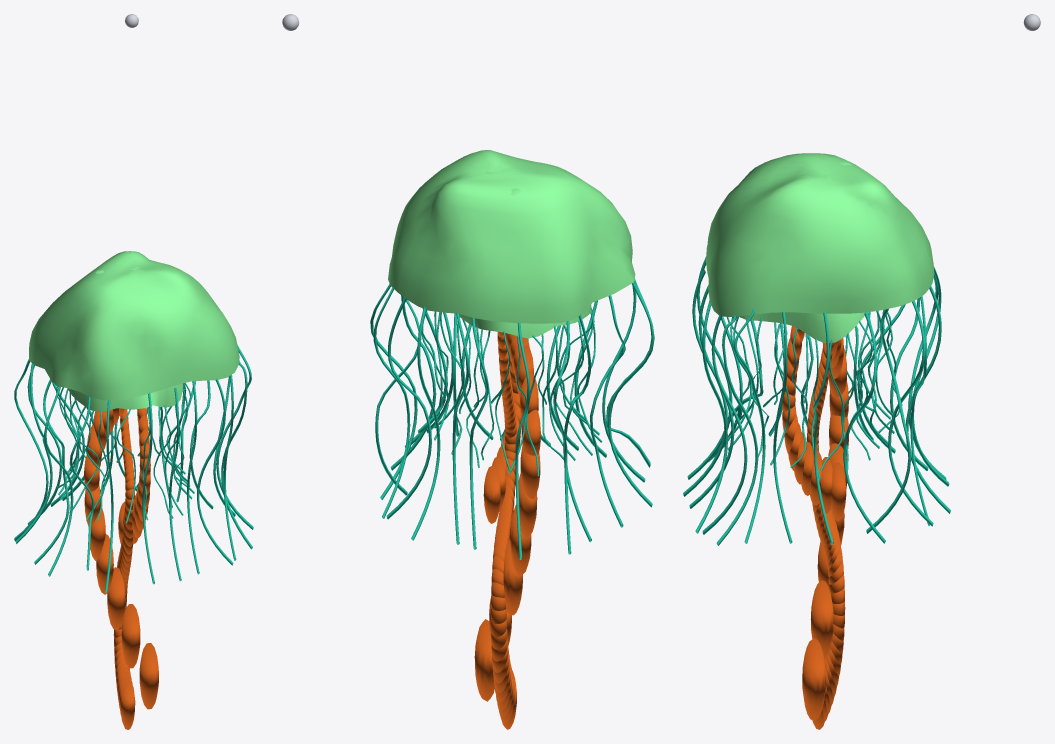
Rendered from jellyfish series improved.obj.
3 renders of one model, left to right at view 1: azimuth 30°, elevation 25°; view 2: azimuth 150°, elevation 25°; view 3: azimuth 270°, elevation 25°, orthographic. The views are drawn at different scales.
Visible parts, largest first — view 1: outer_and_tenticles_XTRA inner, outer_and_tenticles_XTRA tenticles_inner Form47, Group15 Group12 Form72, inner_and_tenticles tenticles_inner Form47, Group15 Group10 Form72, Group15 Group14 Form72, inner_and_tenticles inner; view 2: outer_and_tenticles_XTRA inner, outer_and_tenticles_XTRA tenticles_inner Form47, Group15 Group12 Form72, inner_and_tenticles tenticles_inner Form47, Group15 Group10 Form72, Group15 Group14 Form72, inner_and_tenticles inner; view 3: outer_and_tenticles_XTRA inner, outer_and_tenticles_XTRA tenticles_inner Form47, Group15 Group12 Form72, inner_and_tenticles tenticles_inner Form47, Group15 Group10 Form72, Group15 Group14 Form72, inner_and_tenticles inner.
Part boxes in pixels (x1,y1,x2,y2): outer_and_tenticles_XTRA inner: (29, 251, 239, 400); outer_and_tenticles_XTRA tenticles_inner Form47: (14, 345, 253, 592); Group15 Group12 Form72: (84, 408, 158, 709); inner_and_tenticles tenticles_inner Form47: (56, 383, 194, 522); Group15 Group10 Form72: (113, 409, 135, 729); Group15 Group14 Form72: (118, 408, 150, 544); inner_and_tenticles inner: (67, 266, 183, 411); outer_and_tenticles_XTRA inner: (388, 150, 635, 323); outer_and_tenticles_XTRA tenticles_inner Form47: (370, 278, 654, 559); Group15 Group12 Form72: (474, 333, 540, 701); inner_and_tenticles tenticles_inner Form47: (418, 307, 602, 476); Group15 Group10 Form72: (491, 331, 516, 729); Group15 Group14 Form72: (483, 360, 521, 523); inner_and_tenticles inner: (459, 172, 591, 338); outer_and_tenticles_XTRA inner: (705, 153, 934, 317); outer_and_tenticles_XTRA tenticles_inner Form47: (683, 257, 950, 545); Group15 Group12 Form72: (802, 338, 848, 720); inner_and_tenticles tenticles_inner Form47: (726, 309, 902, 480); Group15 Group10 Form72: (806, 342, 845, 729); Group15 Group14 Form72: (782, 326, 846, 520); inner_and_tenticles inner: (739, 162, 868, 343).
Bounding box in the file's own units: 12.13 × 36.56 × 15.4.
